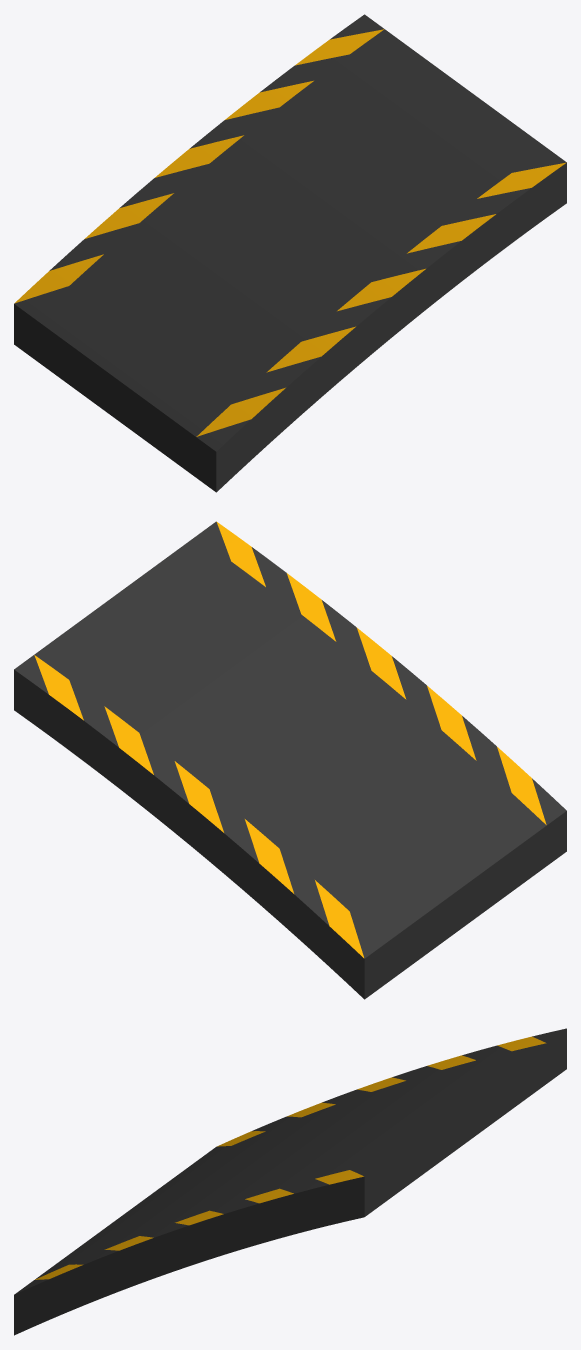
3 renders of one model, top to bottom at view 1: azimuth 30°, elevation 25°; view 2: azimuth 150°, elevation 25°; view 3: azimuth 330°, elevation 25°, orthographic.
Parts seen in each view (by area): view 1: e23; view 2: e23; view 3: e23.
Part boxes in pixels (left/top/right/bottom): e23: left=14, top=14, right=566, bottom=492; e23: left=14, top=521, right=566, bottom=999; e23: left=14, top=1028, right=566, bottom=1335.
Bounding box in the file's own units: 9 × 6 × 9.
